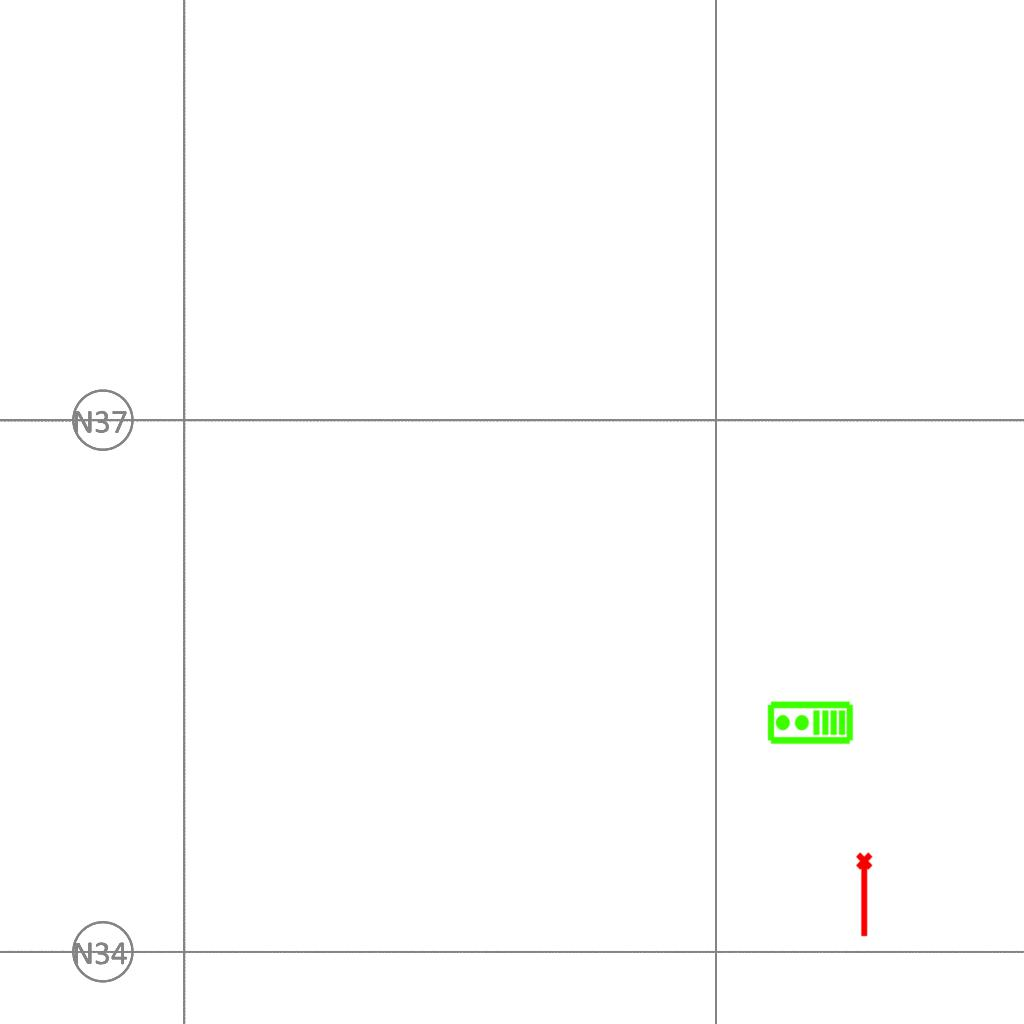ASR_Ansaugoeffnung: (854, 851, 877, 939)
Gegensprechanlage_mit_Video: (766, 700, 854, 747)
